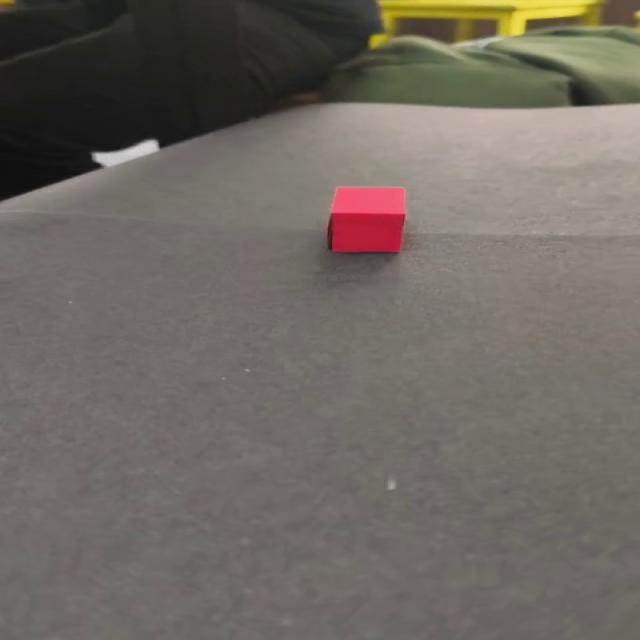red block: (325, 186, 407, 253)
